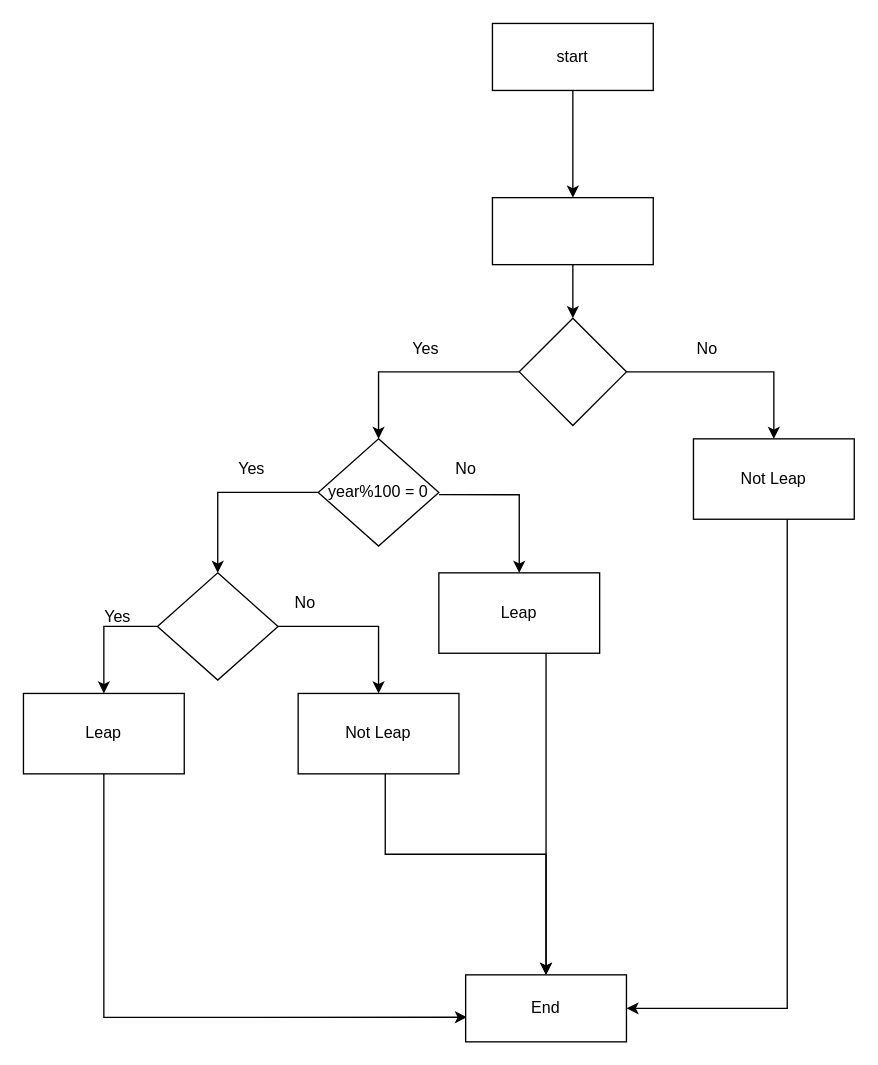
Some shapes in this 878 by 1065 pixel diagram are drawn without their labels. Each missing label, with the centre of its shape:
"year = 1990" goes at (x=572, y=230).
"year%4 = 0" goes at (x=572, y=371).
"year%400 = 0" goes at (x=217, y=626).
